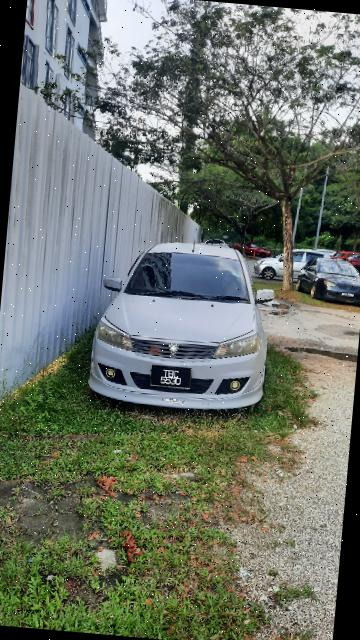License_Plate: (148, 365, 197, 397)
car: (87, 234, 285, 422)
